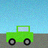vehicle: (6, 26, 33, 45)
